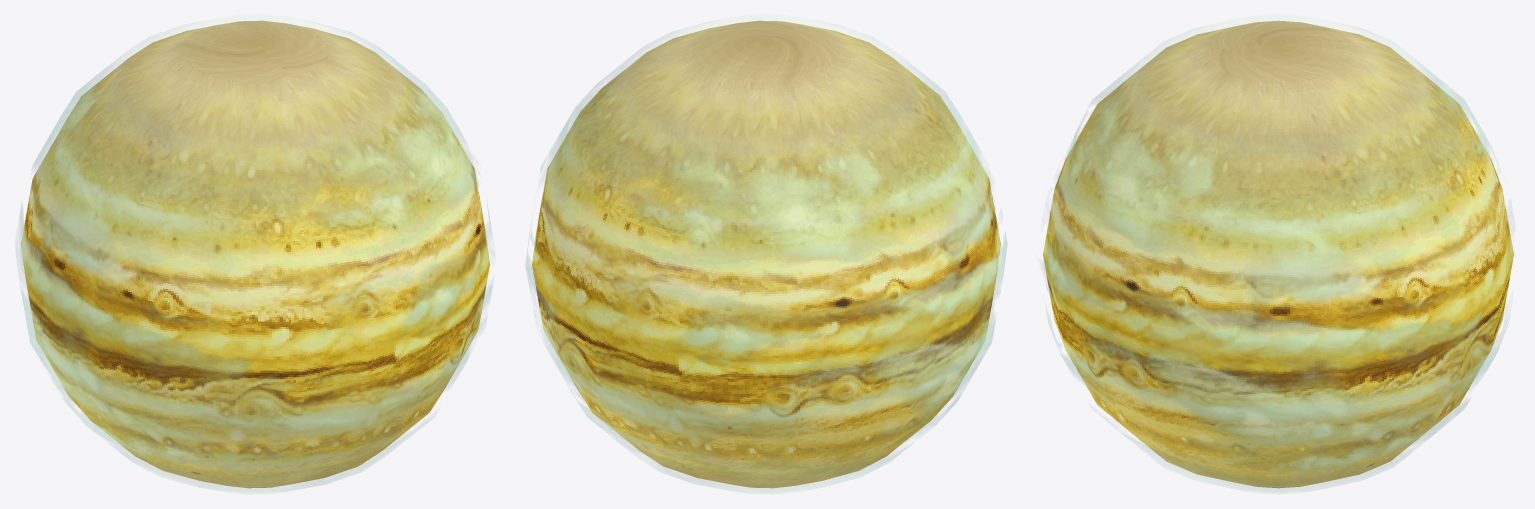
File: pyellowgas_cmp.gltf
3 views of the same model, side by side, from view 1: azimuth 30°, elevation 25°; view 2: azimuth 150°, elevation 25°; view 3: azimuth 270°, elevation 25° (orthographic).
Visible parts, largest first — view 1: Root, clouds; view 2: Root, clouds; view 3: Root, clouds.
Part boxes in pixels (x1,y1,x2,y2): Root: (21, 20, 489, 488); clouds: (16, 14, 492, 494); Root: (532, 20, 1000, 488); clouds: (525, 14, 1007, 494); Root: (1043, 20, 1513, 488); clouds: (1042, 14, 1509, 494).
Bounding box in the file's own units: 44.28 × 44.28 × 44.28.
Materials: 2 (2 with a texture image).
